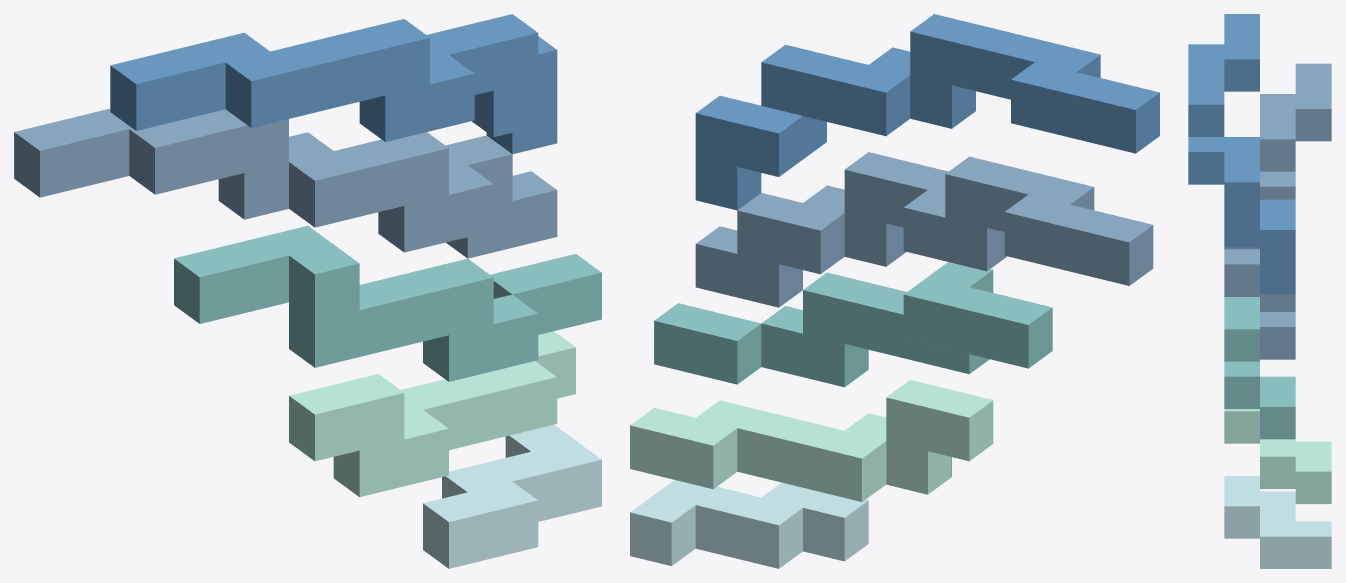
Rendered from Glacial Lord Back.obj.
3 renders of one model, left to right at view 1: azimuth 30°, elevation 25°; view 2: azimuth 150°, elevation 25°; view 3: azimuth 270°, elevation 25°, orthographic. The views are drawn at different scales.
Parts seen in each view (by area): view 1: Glacial Lord Back; view 2: Glacial Lord Back; view 3: Glacial Lord Back.
Boxes of the visible parts, x1=… form: Glacial Lord Back: x1=14, y1=14, x2=601, y2=568; Glacial Lord Back: x1=630, y1=14, x2=1159, y2=568; Glacial Lord Back: x1=1188, y1=14, x2=1331, y2=568.
Bounding box in the file's own units: 12 × 12 × 4.
1 material, 1 textured.
